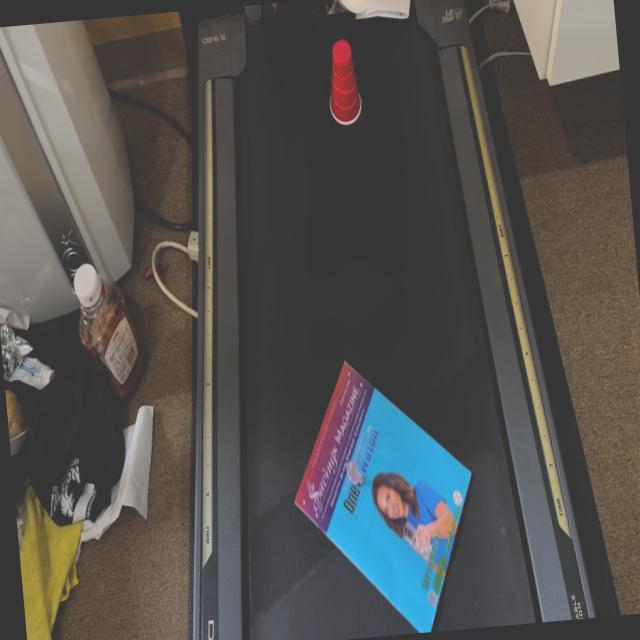Recycle: (280, 349, 485, 640), (322, 35, 363, 127)
